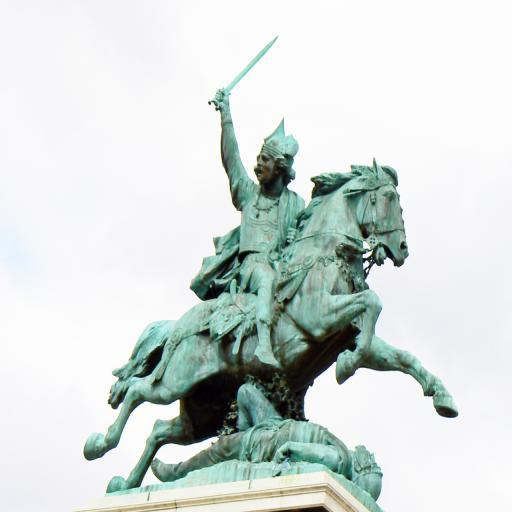Horse: (83, 158, 458, 494)
